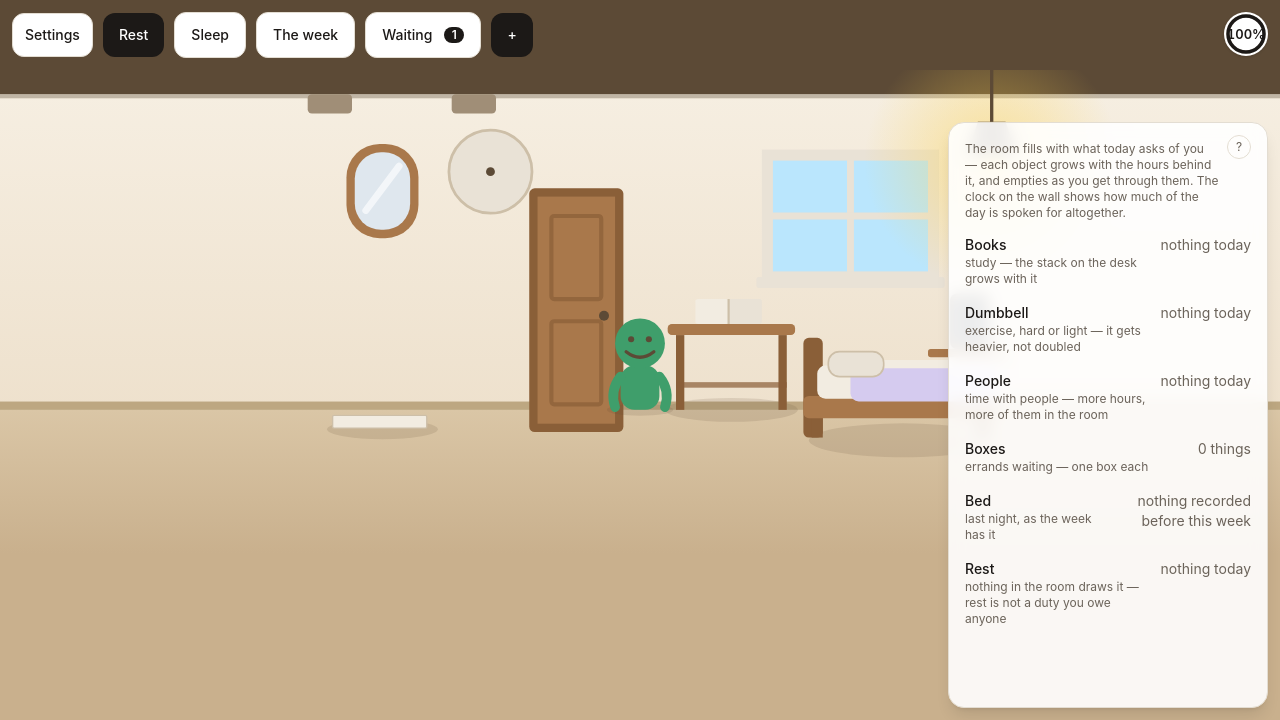
Test case: App, signed in › shows who is signed in
Note: Who you are lives in settings now.
Click the button with test id "open-settings": (52, 35) 12,13 -> 93,57
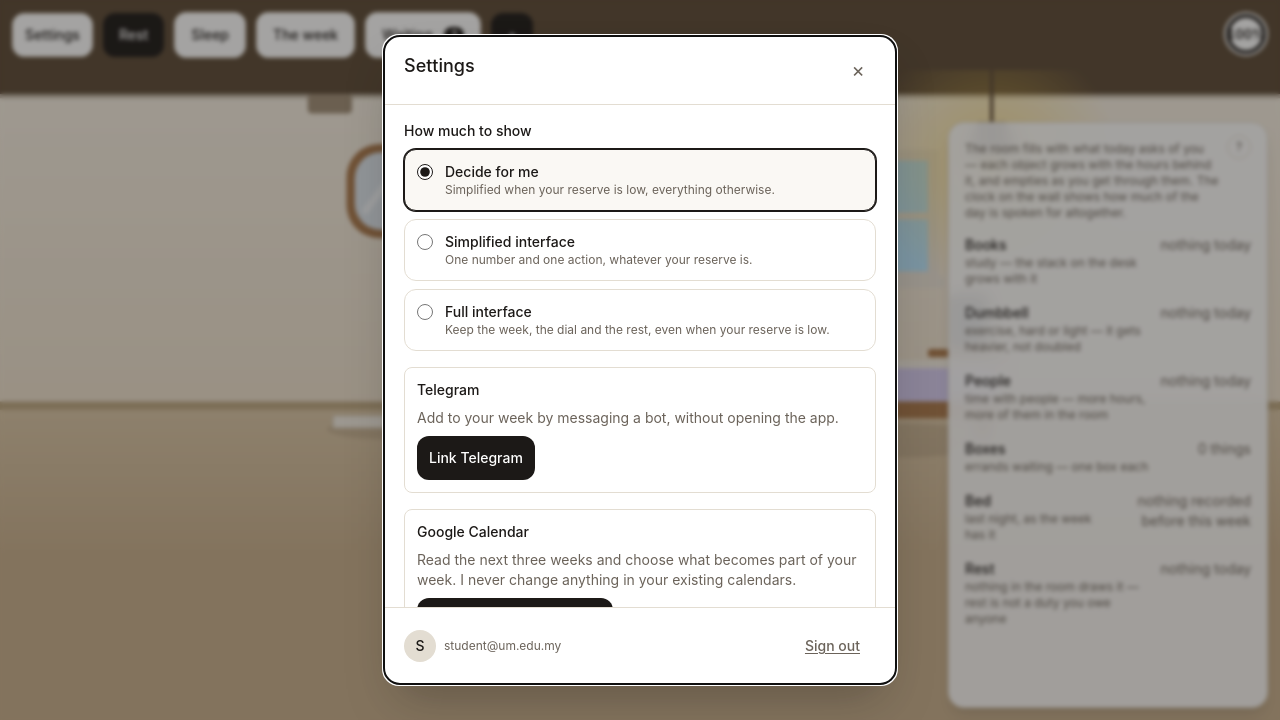
Expected: the text "student@um.edu.my" is shown, 444,638 -> 561,654
